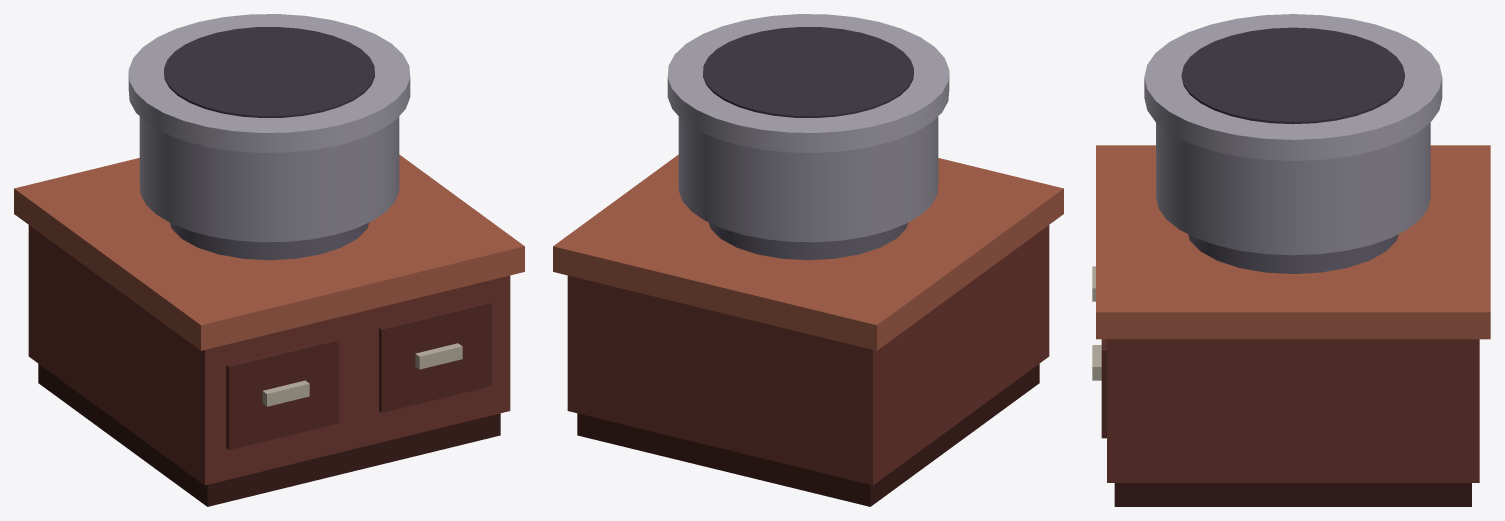
Rendered from k_ember_mortar.glb.
3 views of the same model, side by side, from view 1: azimuth 30°, elevation 25°; view 2: azimuth 150°, elevation 25°; view 3: azimuth 270°, elevation 25° (orthographic). The views are drawn at different scales.
Visible parts, largest first — view 1: piece; view 2: piece; view 3: piece.
Boxes of the visible parts, left/top/right/bottom form: piece: left=14, top=14, right=524, bottom=506; piece: left=553, top=14, right=1063, bottom=506; piece: left=1092, top=14, right=1490, bottom=506.
Size of the model in its own units: 1.06 by 1.06 by 1.07.
